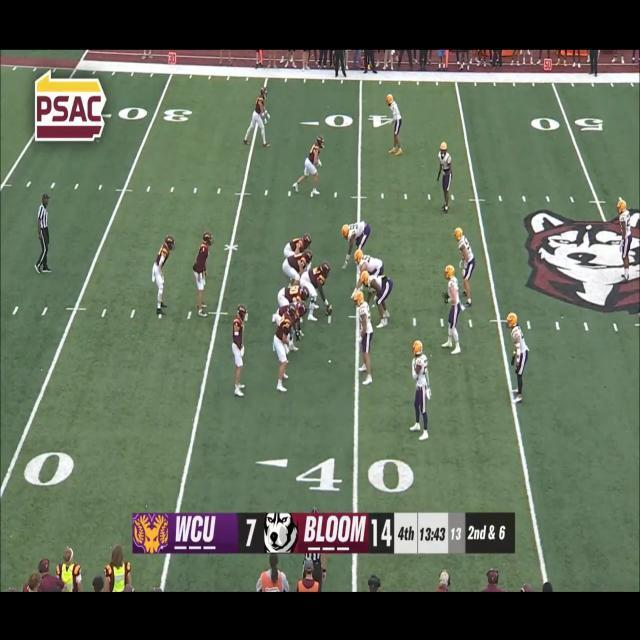football: (325, 304, 333, 316)
